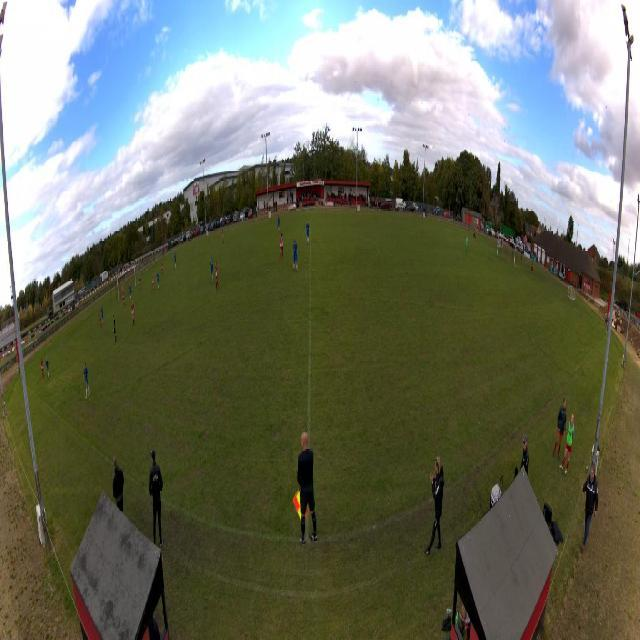player: (82, 362, 90, 401), (291, 238, 299, 273), (214, 260, 220, 292), (112, 314, 117, 344), (209, 256, 214, 285), (279, 233, 284, 261), (40, 356, 45, 380), (46, 357, 51, 378), (306, 219, 310, 245), (131, 300, 135, 326), (156, 270, 160, 292), (151, 273, 155, 295), (98, 309, 102, 331), (122, 289, 126, 310), (465, 235, 469, 256), (128, 282, 132, 301), (173, 252, 177, 270), (101, 305, 104, 327), (277, 214, 280, 233), (222, 227, 225, 245), (161, 261, 164, 278), (139, 276, 142, 293), (121, 284, 124, 294)
